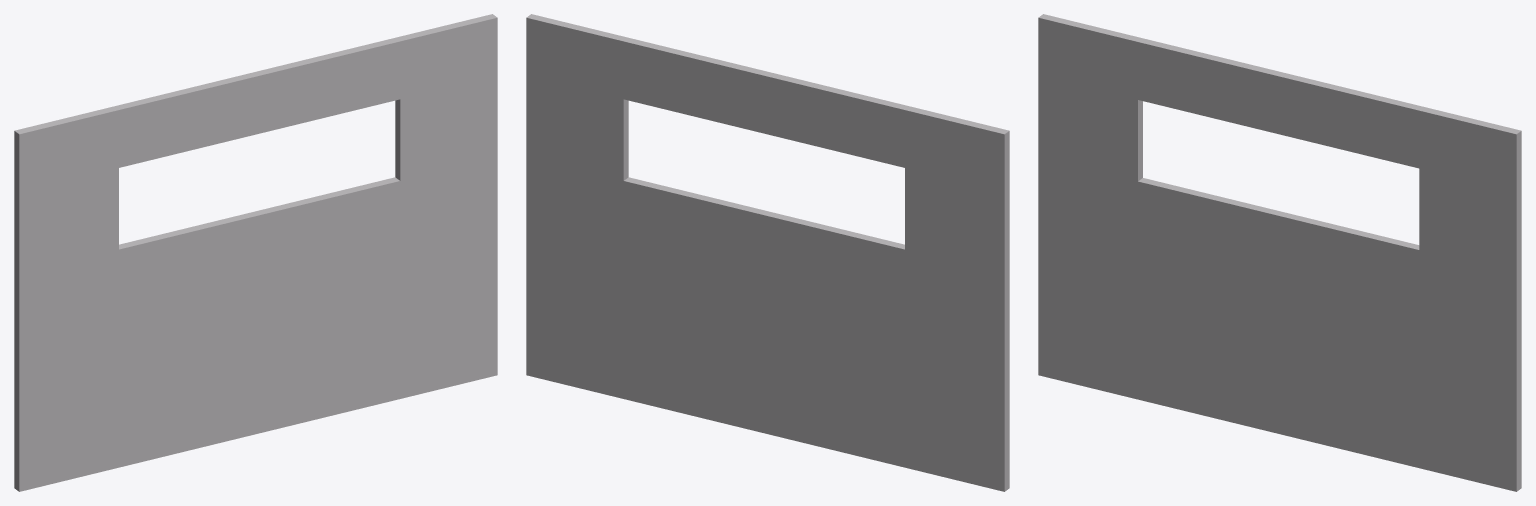
Rendered from wall no window.fbx.
3 views of the same model, side by side, from view 1: azimuth 30°, elevation 25°; view 2: azimuth 150°, elevation 25°; view 3: azimuth 330°, elevation 25° (orthographic).
Parts seen in each view (by area): view 1: root (×4); view 2: root (×4); view 3: root (×4).
Boxes of the visible parts, bbox=[...] form: root (×4): bbox=[14, 14, 497, 491]; root (×4): bbox=[526, 14, 1009, 491]; root (×4): bbox=[1038, 14, 1521, 491].
Bounding box in the file's own units: 0.6384 × 0.4561 × 0.0116.
4 materials, 4 textured.
